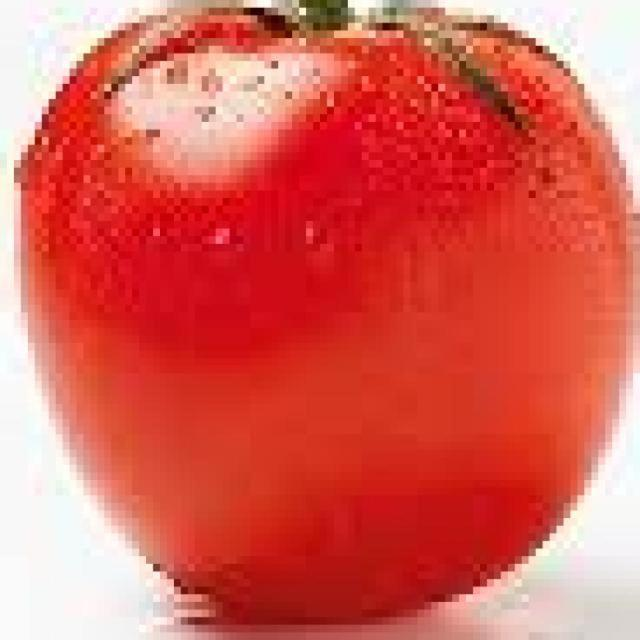Healthy Fruit: (10, 6, 427, 415)
